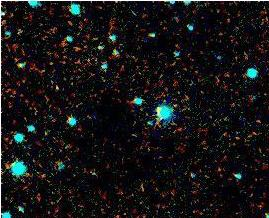star: (141, 96, 171, 126)
